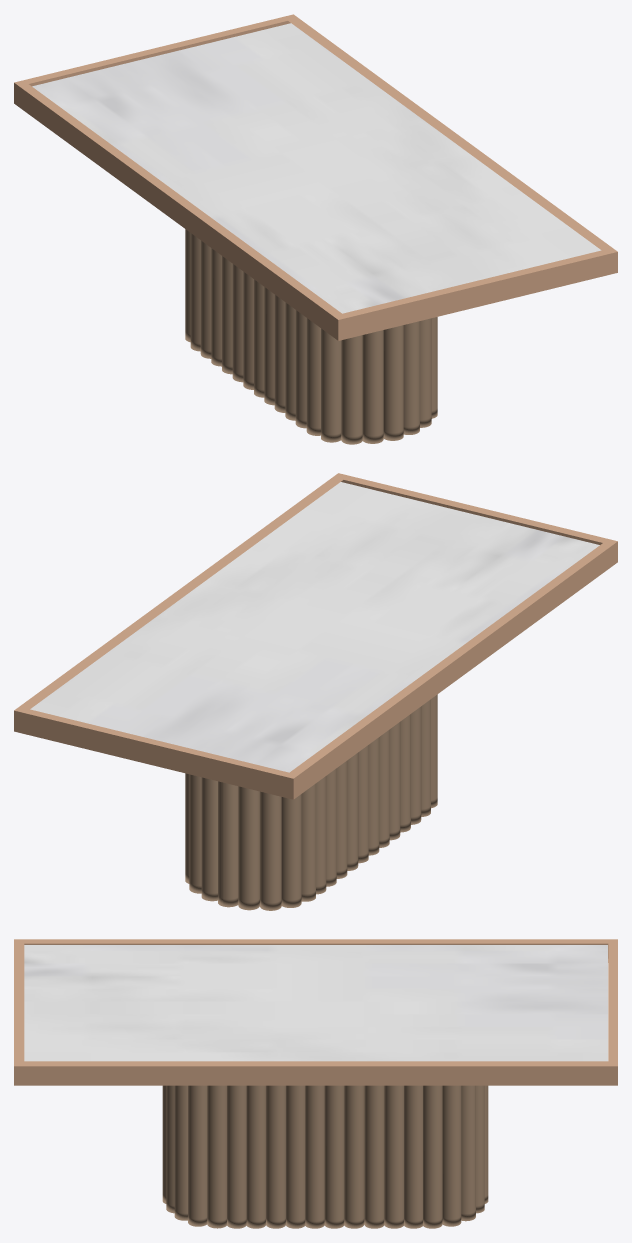
The model's file is RectMarbleTable.fbx.
3 views of the same model, one above another, from view 1: azimuth 30°, elevation 25°; view 2: azimuth 150°, elevation 25°; view 3: azimuth 270°, elevation 25° (orthographic). The views are drawn at different scales.
Visible parts, largest first — view 1: rim; view 2: rim; view 3: rim.
Boxes of the visible parts, x1,y1,x2,y2 form: rim: [14, 14, 617, 444]; rim: [14, 473, 617, 910]; rim: [14, 939, 617, 1228].
Bounding box in the file's own units: 692 × 504 × 1392.
